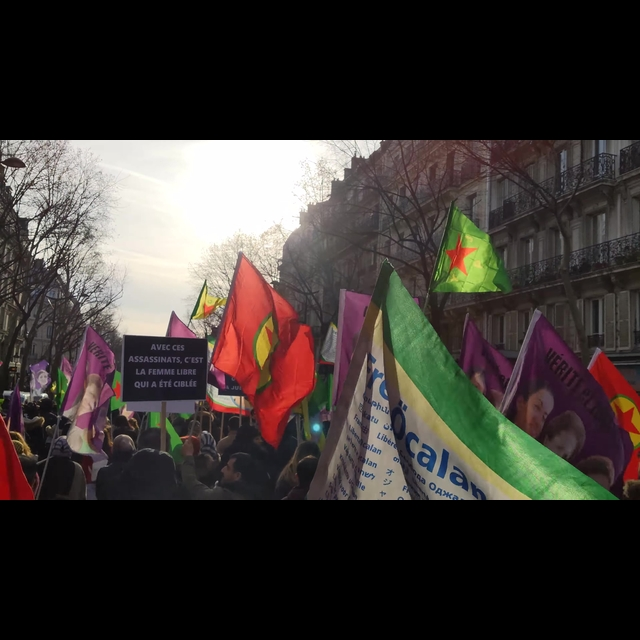YPJ: (438, 224, 490, 286)
